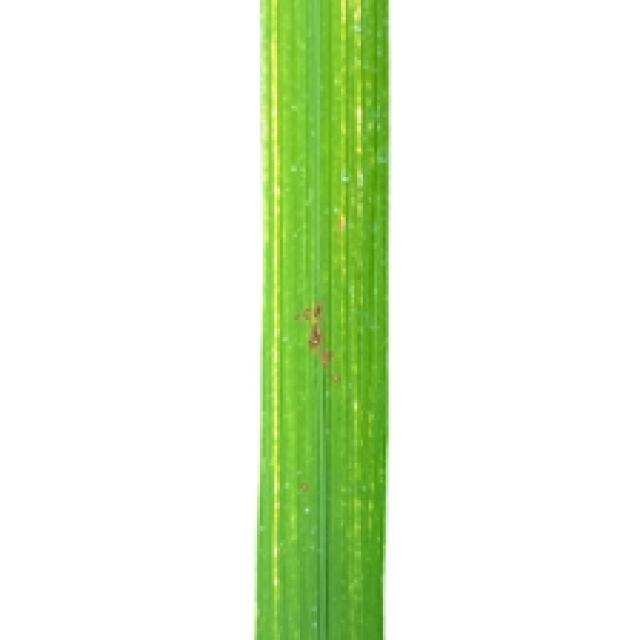Rice___Brown_Spot: (255, 0, 389, 637)
